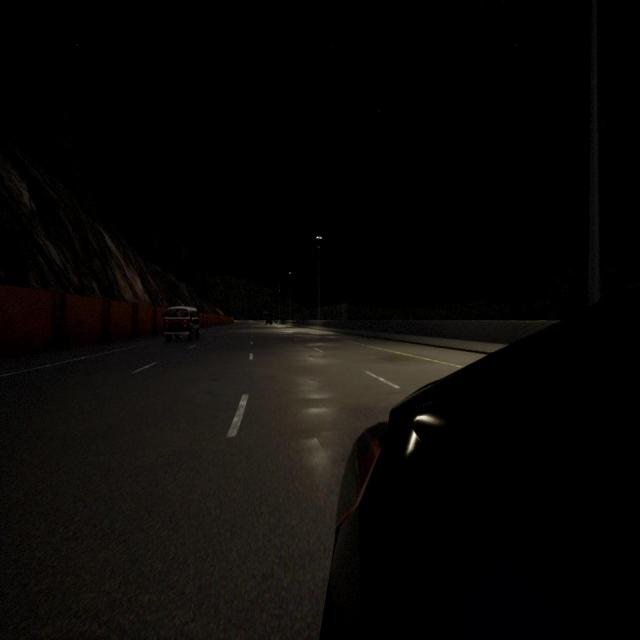Vehicle: (319, 288, 640, 640), (163, 307, 199, 342)
